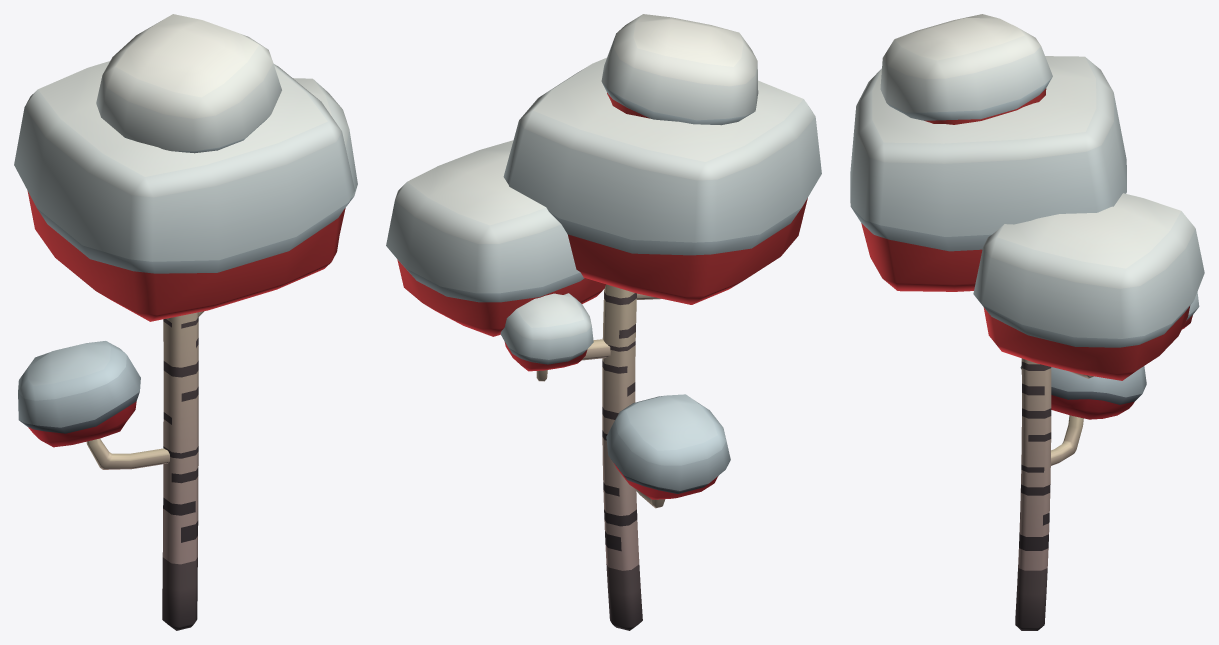
Rendered from birch_tree_col3_03_snow.fbx.
3 views of the same model, side by side, from view 1: azimuth 30°, elevation 25°; view 2: azimuth 150°, elevation 25°; view 3: azimuth 270°, elevation 25° (orthographic). The views are drawn at different scales.
Visible parts, largest first — view 1: birch_tree_col3_03_snow; view 2: birch_tree_col3_03_snow; view 3: birch_tree_col3_03_snow.
Boxes of the visible parts, left/top/right/bottom form: birch_tree_col3_03_snow: left=14, top=14, right=357, bottom=630; birch_tree_col3_03_snow: left=386, top=14, right=821, bottom=630; birch_tree_col3_03_snow: left=850, top=14, right=1204, bottom=630.
Size of the model in its own units: 561 by 957 by 520.
Materials: 1 (1 with a texture image).
